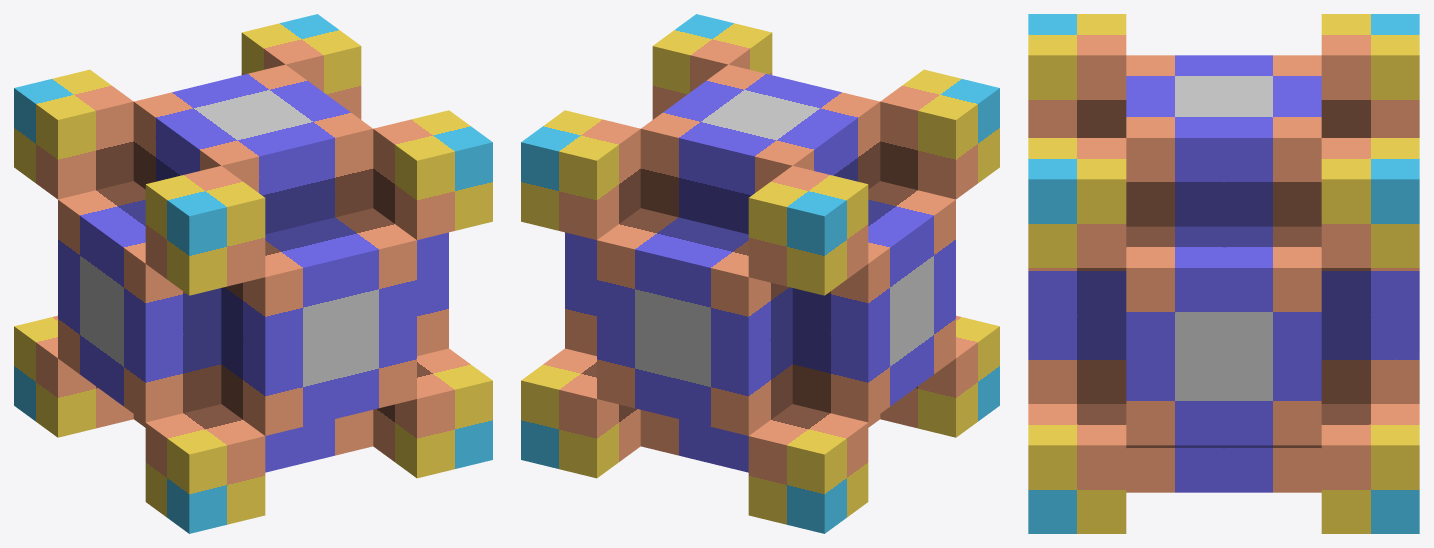
File: nocolor_joint.obj
3 views of the same model, side by side, from view 1: azimuth 30°, elevation 25°; view 2: azimuth 150°, elevation 25°; view 3: azimuth 270°, elevation 25° (orthographic). The views are drawn at different scales.
Visible parts, largest first — view 1: Cable_Cube; view 2: Cable_Cube; view 3: Cable_Cube.
Boxes of the visible parts, box(x1,y1,x2,y2) form: Cable_Cube: box(14, 14, 492, 533); Cable_Cube: box(521, 14, 999, 533); Cable_Cube: box(1028, 14, 1419, 533).
Size of the model in its own units: 0.1875 by 0.1875 by 0.1875.
